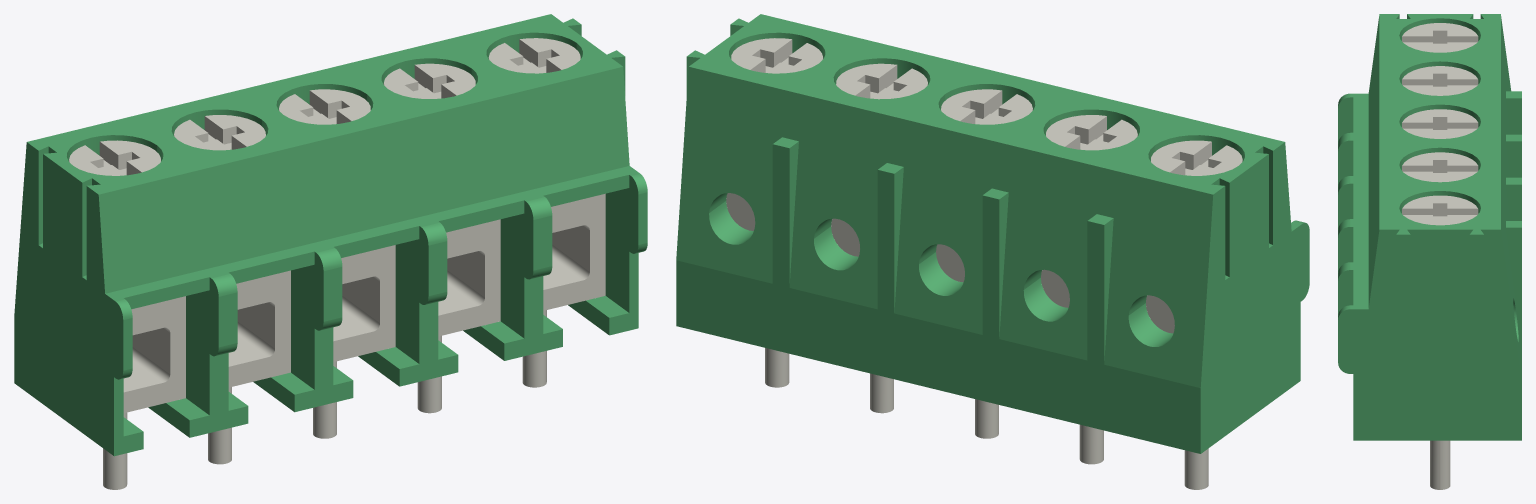
The model's file is kc-terminalblock_phoenix_pt-1_5-5-5.0-h_1x05_p5.00mm_horizontal.glb.
3 renders of one model, left to right at view 1: azimuth 30°, elevation 25°; view 2: azimuth 150°, elevation 25°; view 3: azimuth 270°, elevation 25°, orthographic. The views are drawn at different scales.
Parts seen in each view (by area): view 1: 0.08333333333333333_0.4166666666666667_0.16666666666666666_0, 0.6666666666666666_0.6666666666666666_0.5833333333333334_0.8; view 2: 0.08333333333333333_0.4166666666666667_0.16666666666666666_0, 0.6666666666666666_0.6666666666666666_0.5833333333333334_0.8; view 3: 0.08333333333333333_0.4166666666666667_0.16666666666666666_0, 0.6666666666666666_0.6666666666666666_0.5833333333333334_0.8.
Boxes of the visible parts, x1,y1,x2,y2 form: 0.08333333333333333_0.4166666666666667_0.16666666666666666_0: (14,14,647,456); 0.6666666666666666_0.6666666666666666_0.5833333333333334_0.8: (69,38,605,489); 0.08333333333333333_0.4166666666666667_0.16666666666666666_0: (676,14,1309,453); 0.6666666666666666_0.6666666666666666_0.5833333333333334_0.8: (726,38,1242,489); 0.08333333333333333_0.4166666666666667_0.16666666666666666_0: (1338,14,1521,440); 0.6666666666666666_0.6666666666666666_0.5833333333333334_0.8: (1402,23,1478,489).
Bounding box in the file's own units: 2.56 × 1.5 × 0.9.
